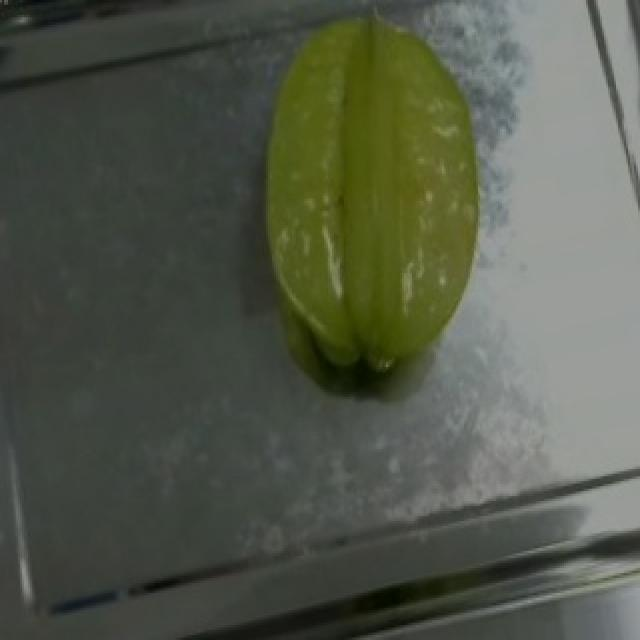fruit: (220, 7, 538, 392)
